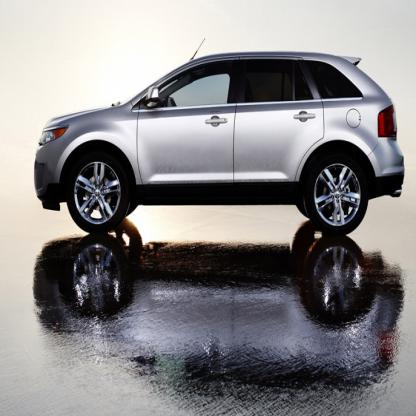Vehicle: (33, 39, 405, 236)
